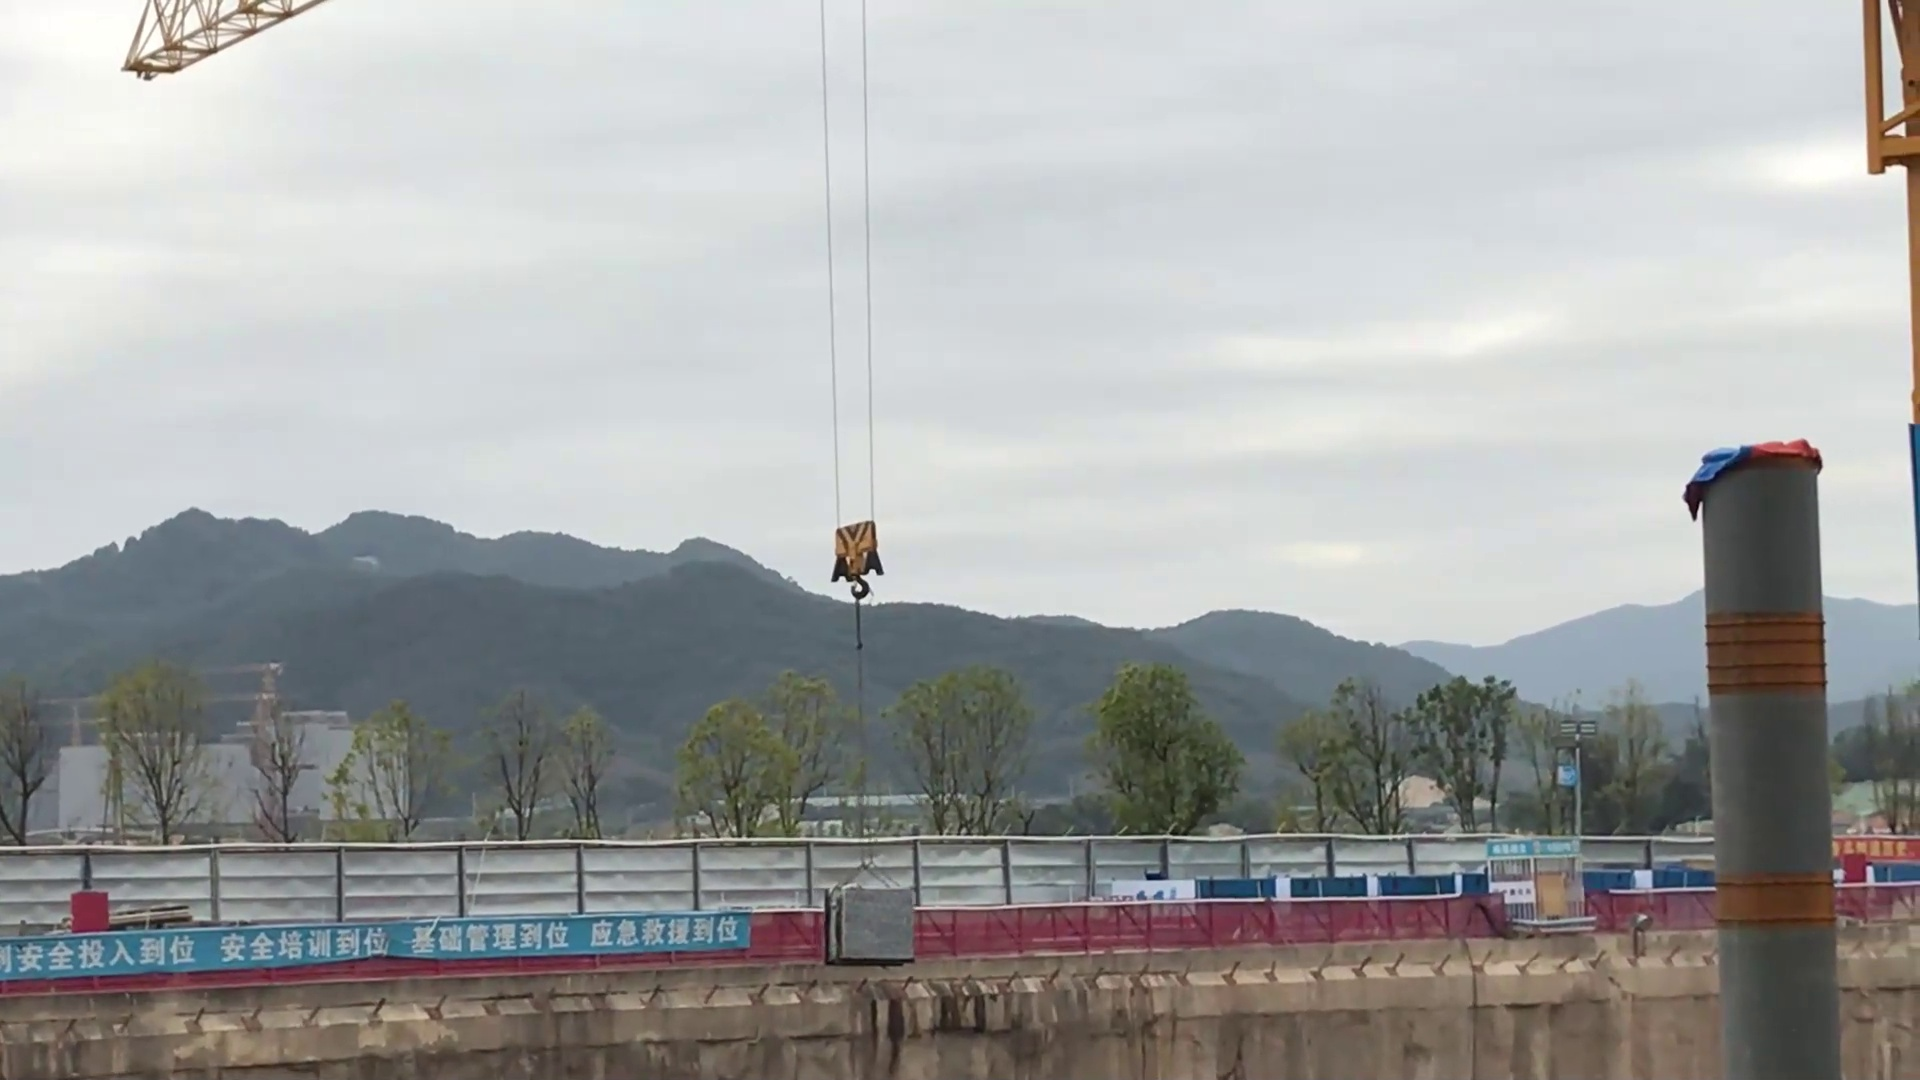hook: (825, 518, 881, 603)
slogan: (7, 911, 760, 957)
